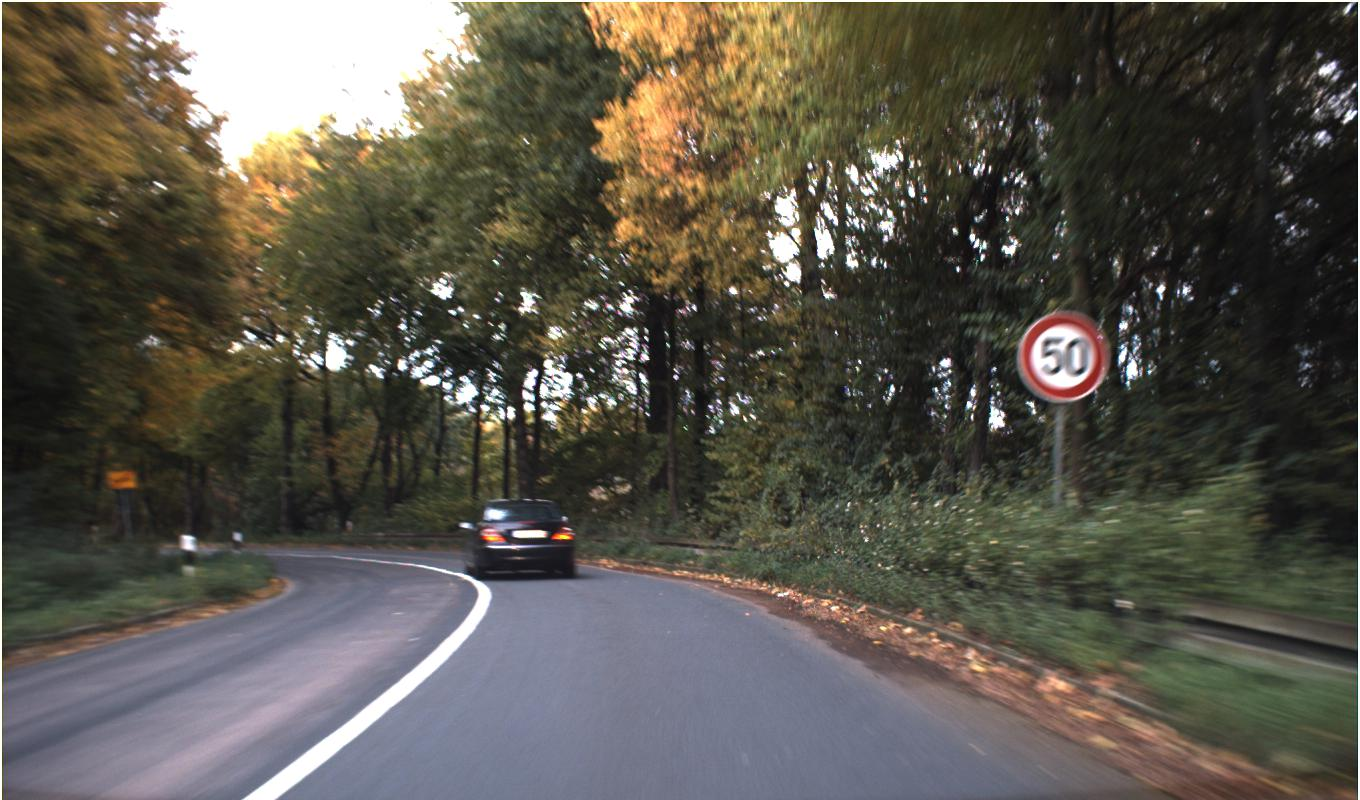prohibitory: (1019, 313, 1106, 401)
